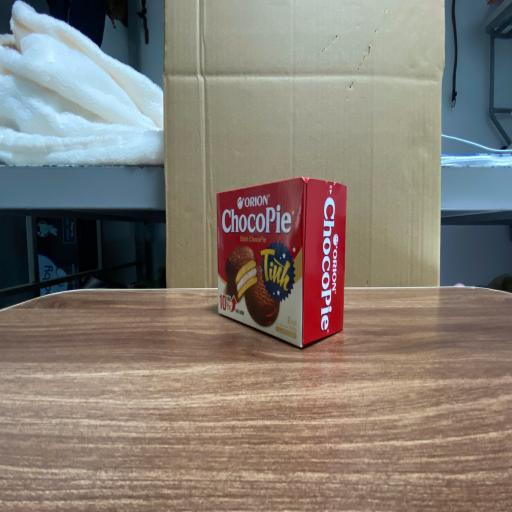chocopie: (216, 181, 347, 348)
